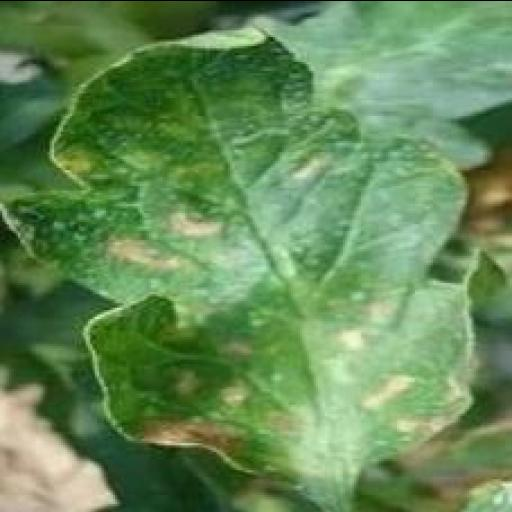Late Blight: (2, 16, 486, 501)
